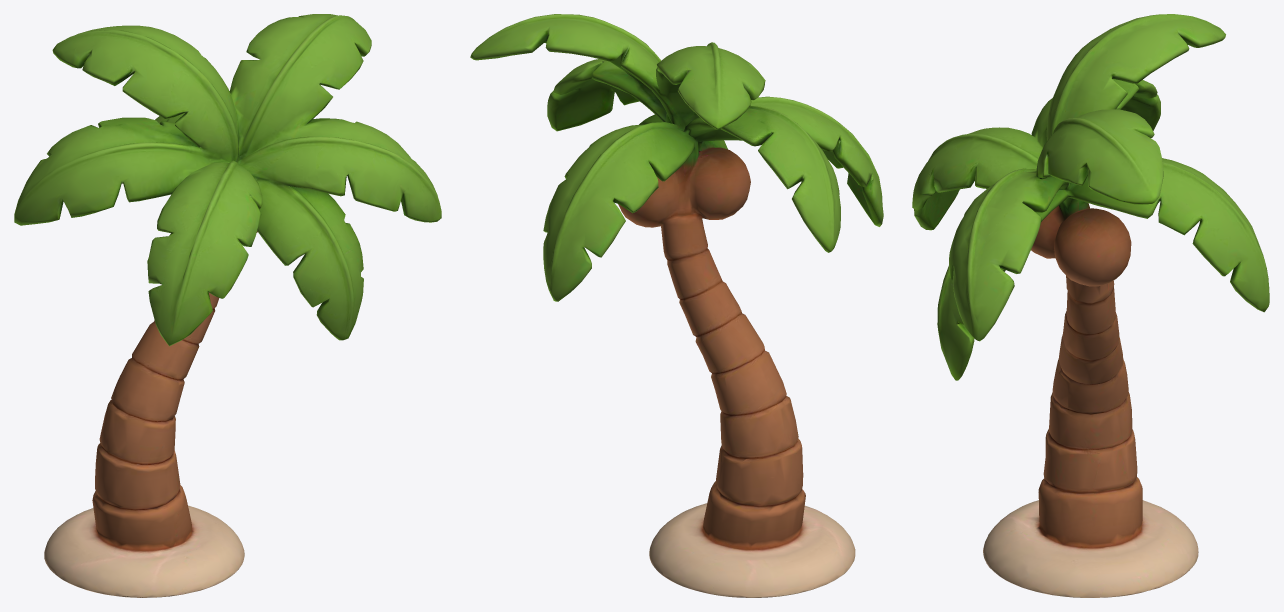
The model's file is palmera.glb.
3 views of the same model, side by side, from view 1: azimuth 30°, elevation 25°; view 2: azimuth 150°, elevation 25°; view 3: azimuth 270°, elevation 25° (orthographic). The views are drawn at different scales.
Parts seen in each view (by area): view 1: tripo_node_57f6a331-dfeb-44f4-a205-a8b5bf879a1d; view 2: tripo_node_57f6a331-dfeb-44f4-a205-a8b5bf879a1d; view 3: tripo_node_57f6a331-dfeb-44f4-a205-a8b5bf879a1d.
Boxes of the visible parts, x1,y1,x2,y2 form: tripo_node_57f6a331-dfeb-44f4-a205-a8b5bf879a1d: [14, 14, 441, 597]; tripo_node_57f6a331-dfeb-44f4-a205-a8b5bf879a1d: [470, 14, 883, 597]; tripo_node_57f6a331-dfeb-44f4-a205-a8b5bf879a1d: [912, 14, 1269, 597].
Size of the model in its own units: 0.7271 by 1 by 0.5991.
Materials: 1 (1 with a texture image).
